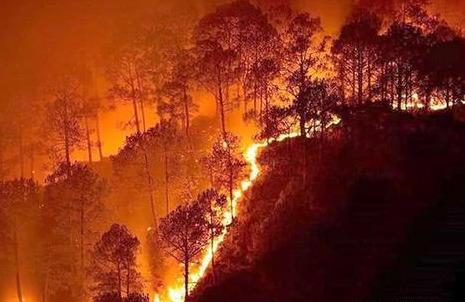fire: (164, 255, 196, 300), (235, 142, 267, 186)
smoke: (9, 5, 149, 247), (156, 5, 254, 133)
